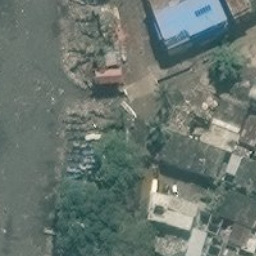buildings: (143, 1, 256, 54), (150, 124, 235, 179), (147, 190, 196, 235), (208, 96, 244, 134), (229, 155, 256, 200), (227, 218, 256, 256), (232, 109, 256, 154), (93, 65, 129, 88), (184, 229, 211, 256), (249, 82, 256, 106)
